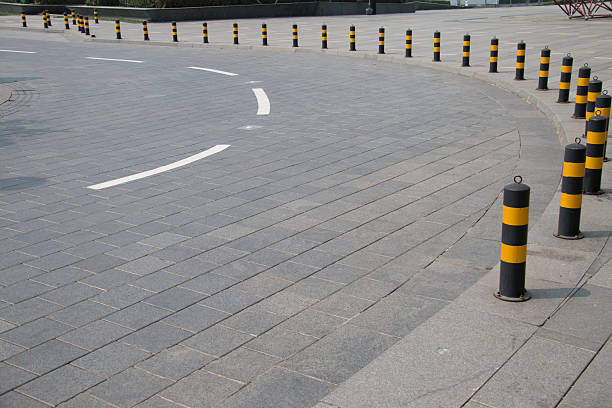bollard: (491, 175, 533, 305), (557, 138, 584, 242), (555, 53, 574, 105), (536, 46, 553, 92), (486, 34, 504, 76), (510, 40, 526, 83), (429, 23, 445, 63), (397, 28, 418, 58), (460, 29, 475, 68), (373, 24, 389, 56)
